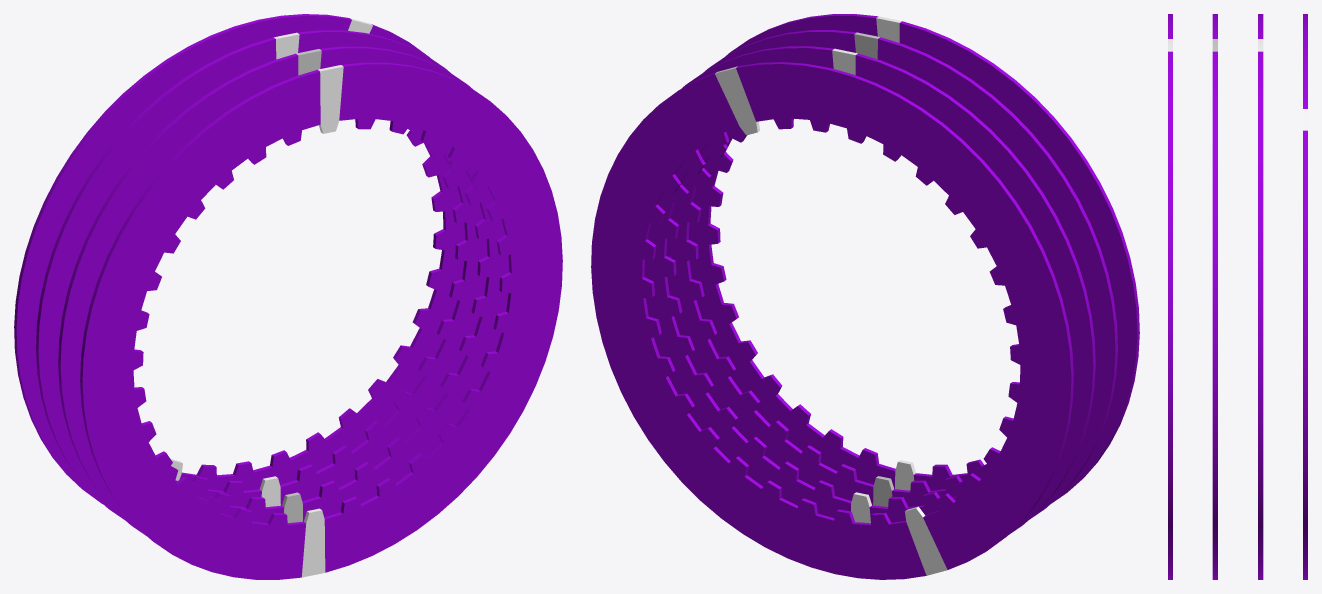
Rendered from clutch pack 656.fbx.
The picture shows the model from 3 angles, left to right: view 1: azimuth 30°, elevation 25°; view 2: azimuth 150°, elevation 25°; view 3: azimuth 270°, elevation 25°; orthographic projection. The views are drawn at different scales.
Parts seen in each view (by area): view 1: 656D, 656B, 656C, 656A; view 2: 656A, 656C, 656B, 656D; view 3: 656C, 656B, 656D, 656A.
Part boxes in pixels (left/top/right/bottom): 656D: left=80, top=62, right=562, bottom=579; 656B: left=36, top=30, right=487, bottom=519; 656C: left=58, top=46, right=509, bottom=535; 656A: left=14, top=14, right=465, bottom=503; 656A: left=591, top=62, right=1073, bottom=579; 656C: left=666, top=30, right=1117, bottom=519; 656B: left=644, top=46, right=1095, bottom=534; 656D: left=688, top=14, right=1139, bottom=503; 656C: left=1212, top=14, right=1217, bottom=579; 656B: left=1258, top=14, right=1263, bottom=579; 656D: left=1168, top=14, right=1172, bottom=579; 656A: left=1303, top=14, right=1307, bottom=579.
Size of the model in its own units: 1120 by 1120 by 277.
